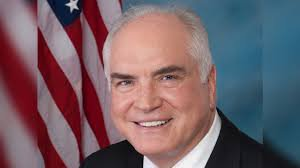noMask: (95, 10, 222, 163)
